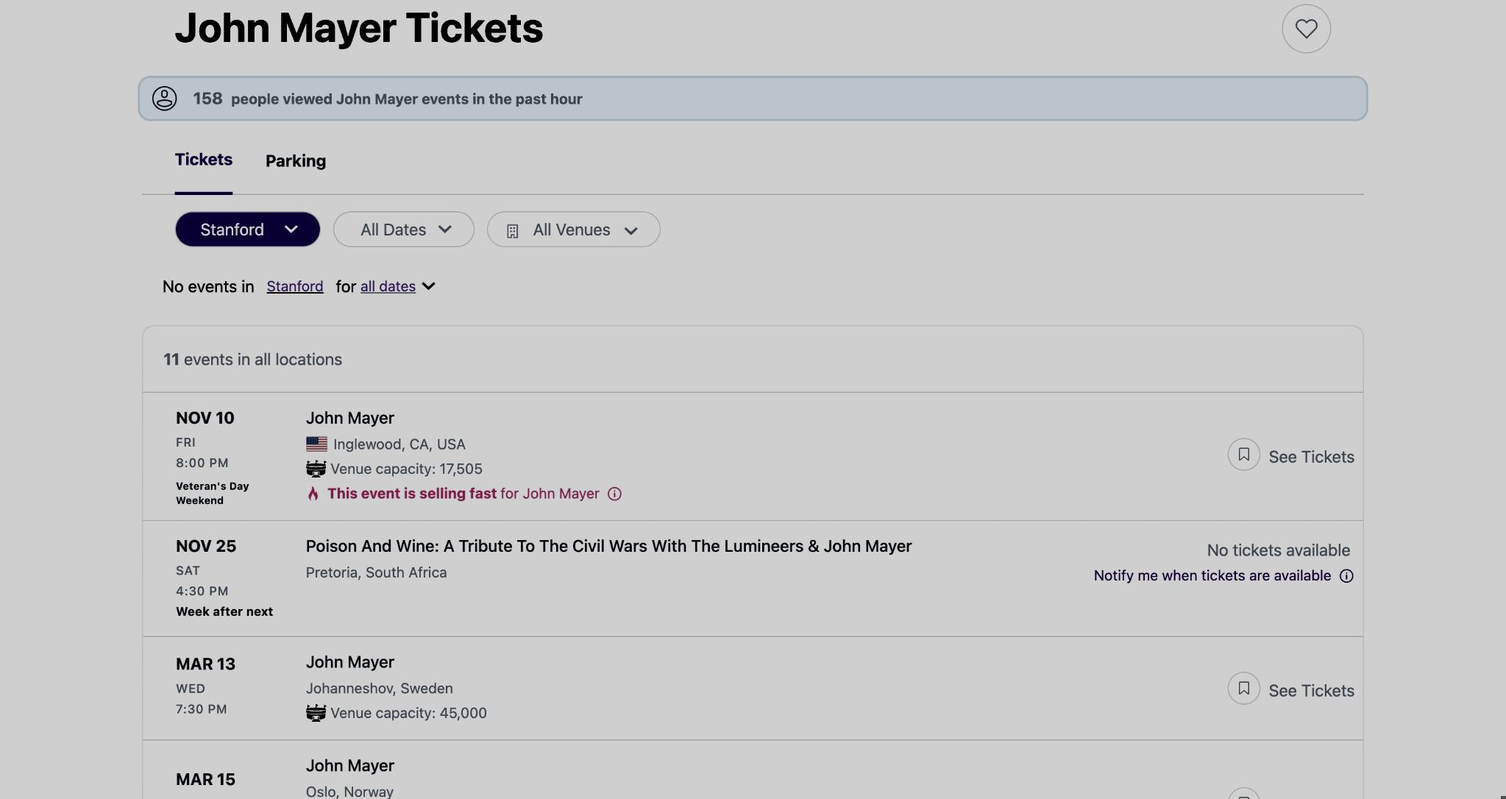webelement: (142, 392, 1363, 520), (142, 521, 1363, 636), (142, 636, 1363, 739), (142, 740, 1363, 799), (486, 210, 660, 246), (230, 89, 581, 106), (175, 210, 320, 246), (1094, 566, 1331, 583), (1207, 537, 1354, 561), (164, 349, 342, 368), (326, 484, 495, 501), (1282, 4, 1331, 52), (162, 273, 254, 298), (500, 484, 621, 501), (176, 603, 273, 619), (1223, 16, 1282, 40), (257, 276, 330, 295), (1178, 441, 1228, 465), (1178, 675, 1228, 699), (1228, 437, 1260, 469), (1228, 671, 1260, 703), (193, 88, 231, 107), (336, 273, 356, 298), (1178, 791, 1228, 799), (1228, 787, 1260, 799), (163, 349, 180, 368), (305, 436, 326, 451), (606, 484, 622, 503), (1339, 566, 1355, 585), (622, 221, 639, 238), (419, 277, 436, 294), (504, 221, 520, 238), (283, 221, 299, 237), (436, 221, 452, 237)
